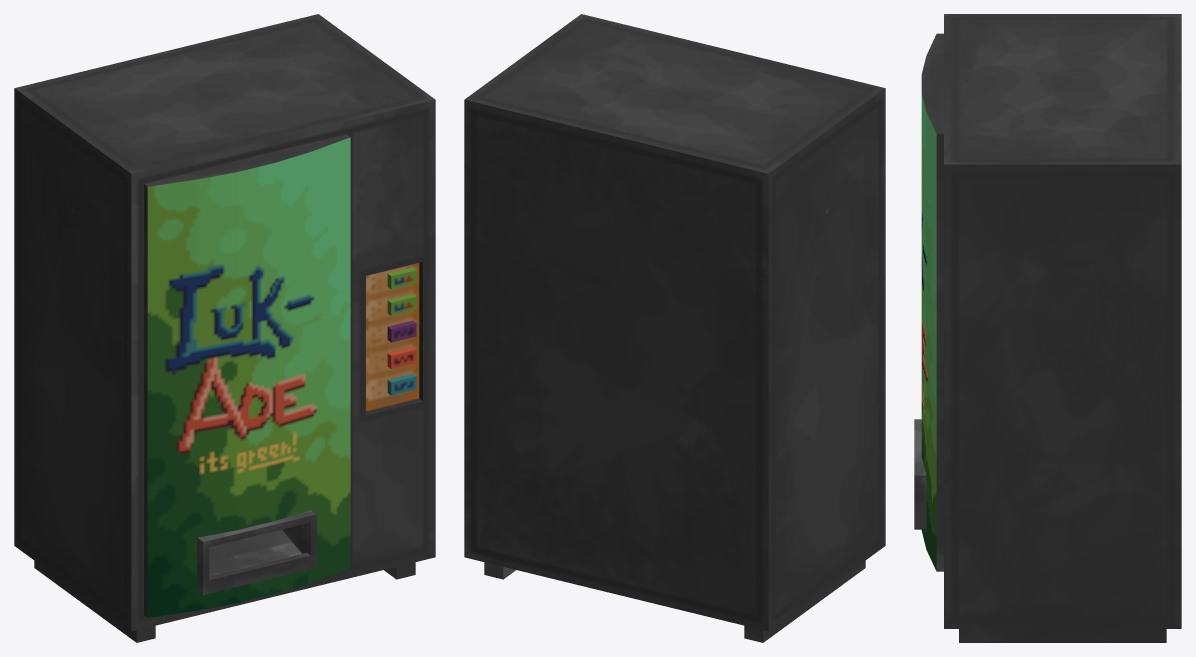
File: Vending Machine.fbx
3 views of the same model, side by side, from view 1: azimuth 30°, elevation 25°; view 2: azimuth 150°, elevation 25°; view 3: azimuth 270°, elevation 25° (orthographic).
Parts seen in each view (by area): view 1: Vending Base, Glowing Covers; view 2: Vending Base; view 3: Vending Base, Glowing Covers.
Part boxes in pixels (x1,y1,x2,y2): Vending Base: (14, 14, 435, 642); Glowing Covers: (147, 137, 416, 617); Vending Base: (464, 14, 885, 642); Vending Base: (914, 14, 1181, 642); Glowing Covers: (921, 94, 936, 570).
Size of the model in its own units: 300 by 450 by 225.
Materials: 2 (2 with a texture image).
